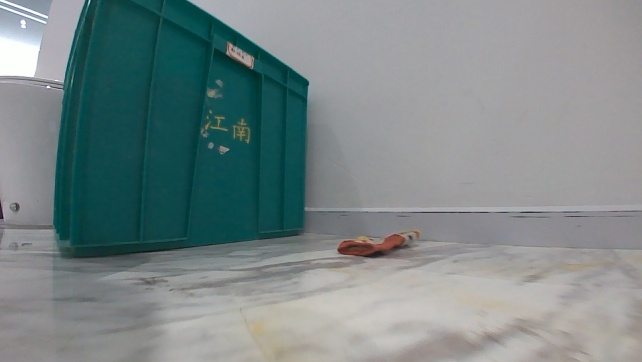socks: (337, 225, 424, 256)
toilet: (0, 72, 65, 229)
